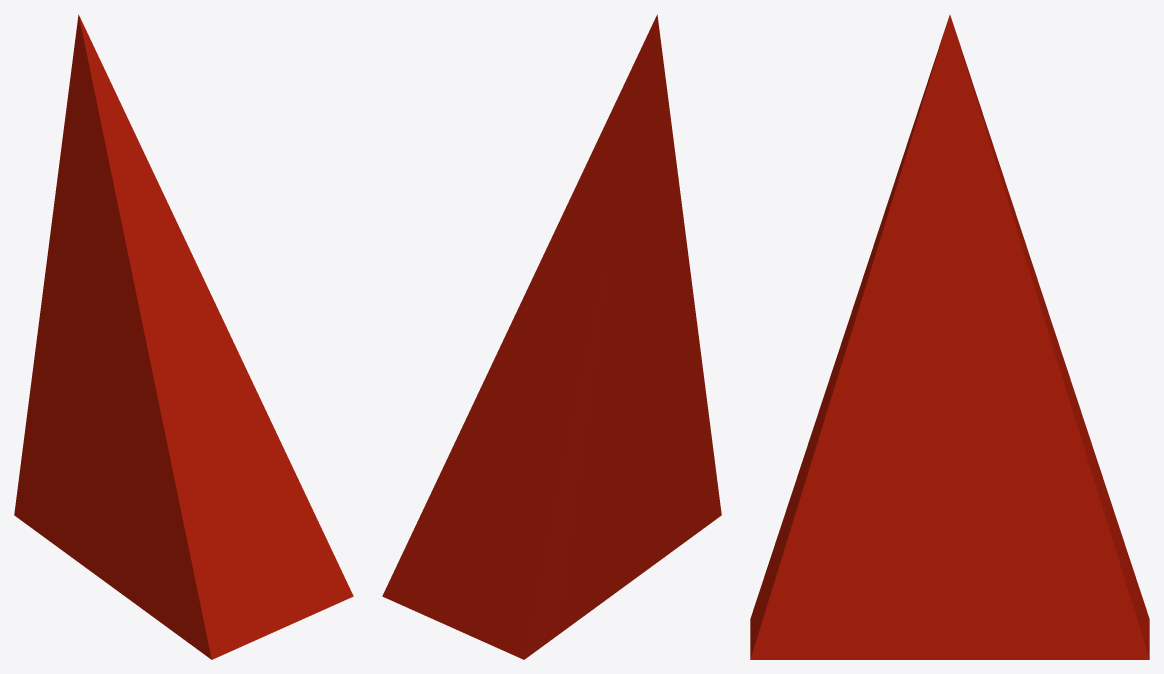
File: player_leftArm.obj
3 views of the same model, side by side, from view 1: azimuth 30°, elevation 25°; view 2: azimuth 150°, elevation 25°; view 3: azimuth 270°, elevation 25° (orthographic).
Parts seen in each view (by area): view 1: leftArm; view 2: leftArm; view 3: leftArm.
Boxes of the visible parts, bbox=[...] form: leftArm: bbox=[14, 14, 353, 659]; leftArm: bbox=[382, 14, 721, 659]; leftArm: bbox=[750, 15, 1149, 659].
Size of the model in its own units: 0.1062 by 0.3349 by 0.2061.
